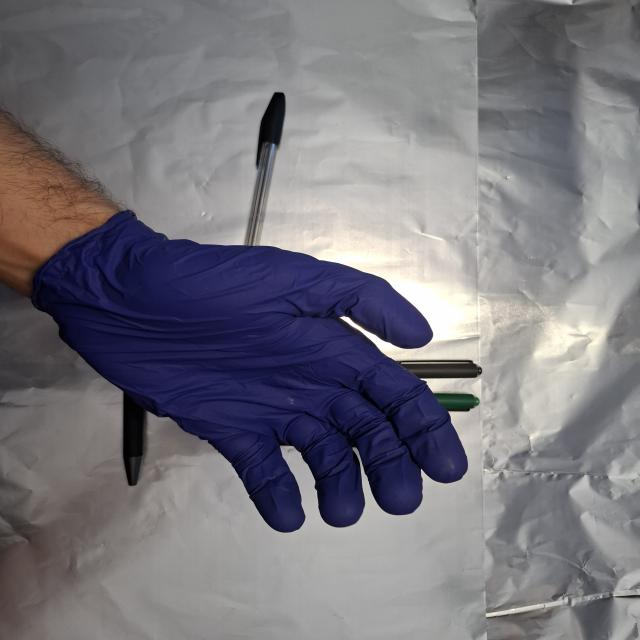glove_on: (20, 205, 475, 534)
